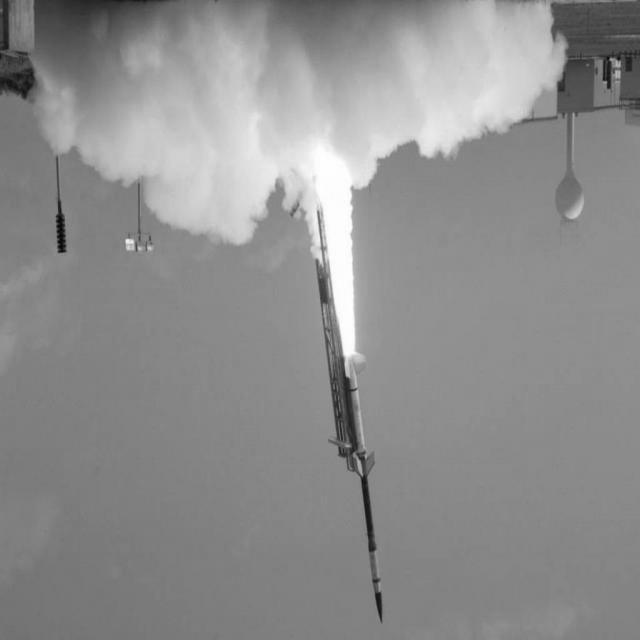missile: (345, 448, 387, 624)
